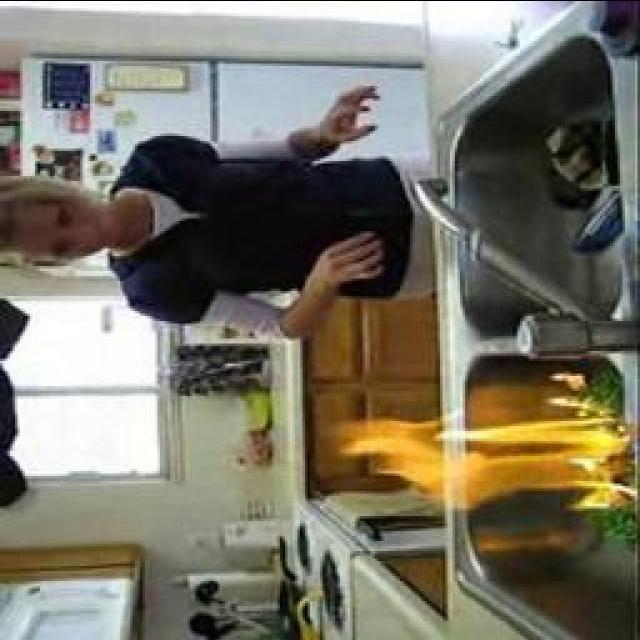Fire: (334, 391, 630, 512)
